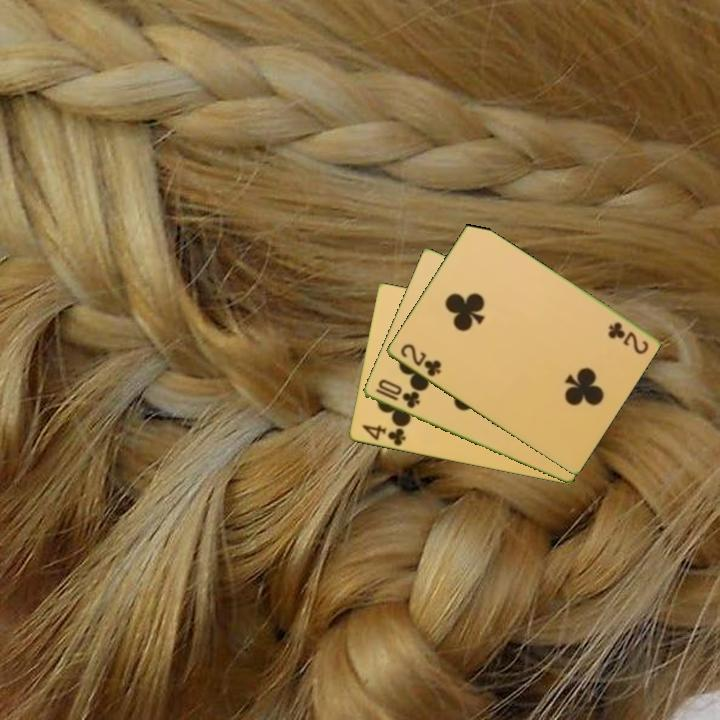10c: (372, 376, 422, 412)
2c: (396, 340, 444, 380), (604, 318, 651, 357)
4c: (358, 421, 408, 449)
